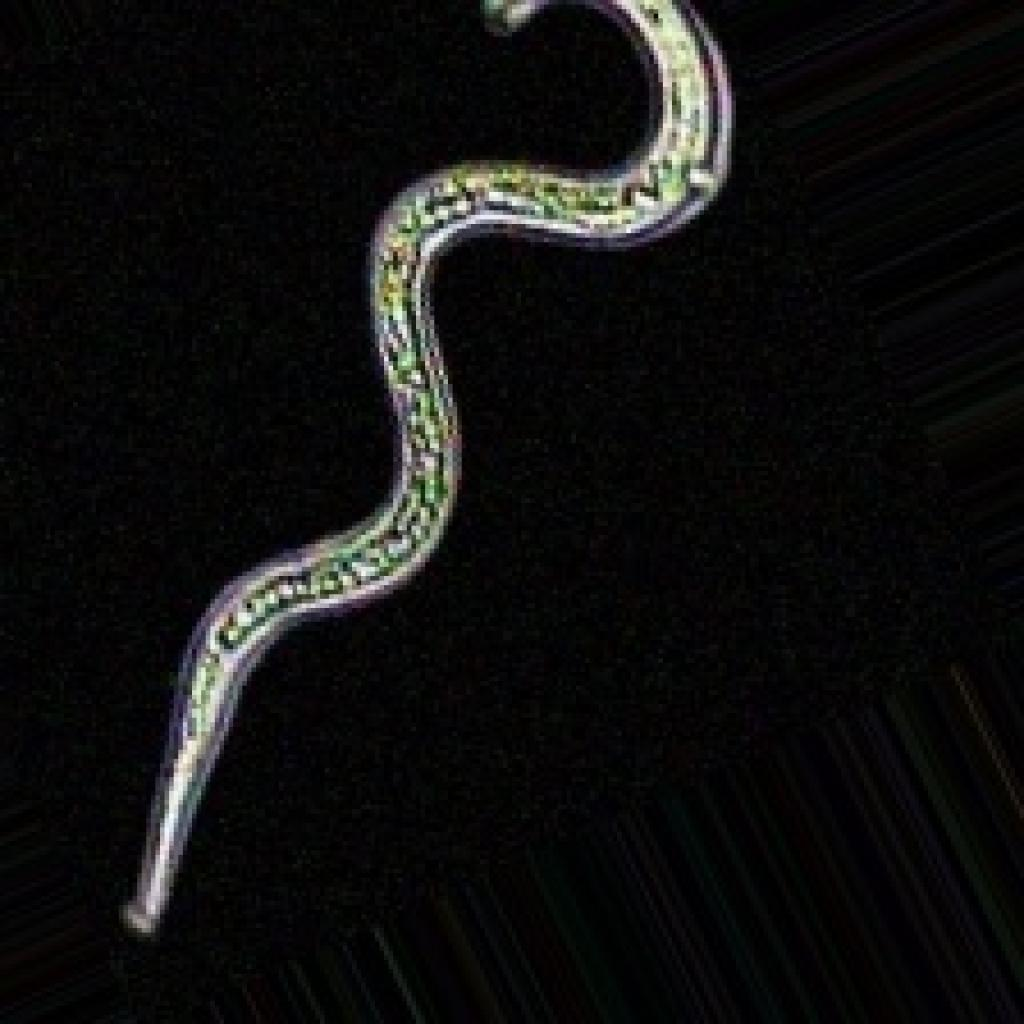Nematode: (110, 0, 736, 942)
